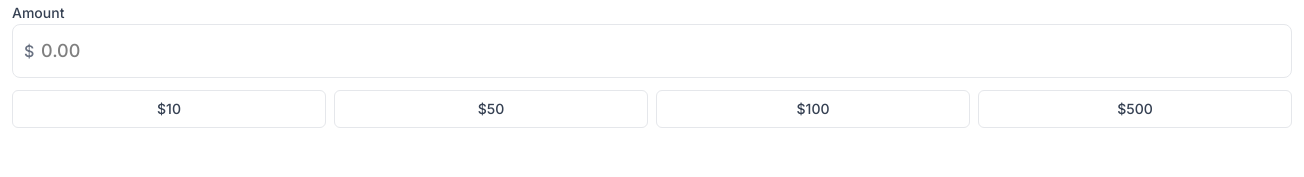
Test case: TradeAmountInput › Accessibility › error message has alert role
Type "0.5" into the field named "trade amount". click: point(652, 51)
box: [12,24,1292,78]
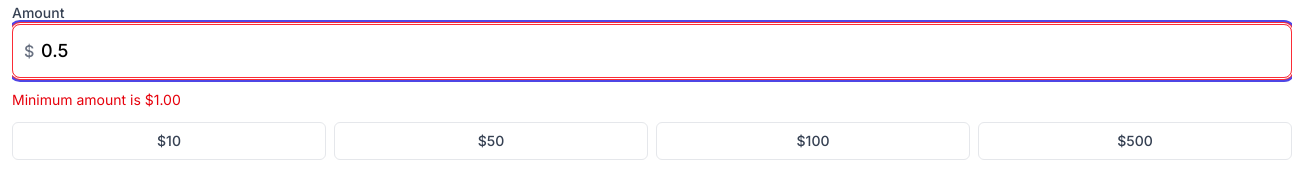
Now the message "Minimum amount is $1.00" is shown, box [12,91,181,108]
